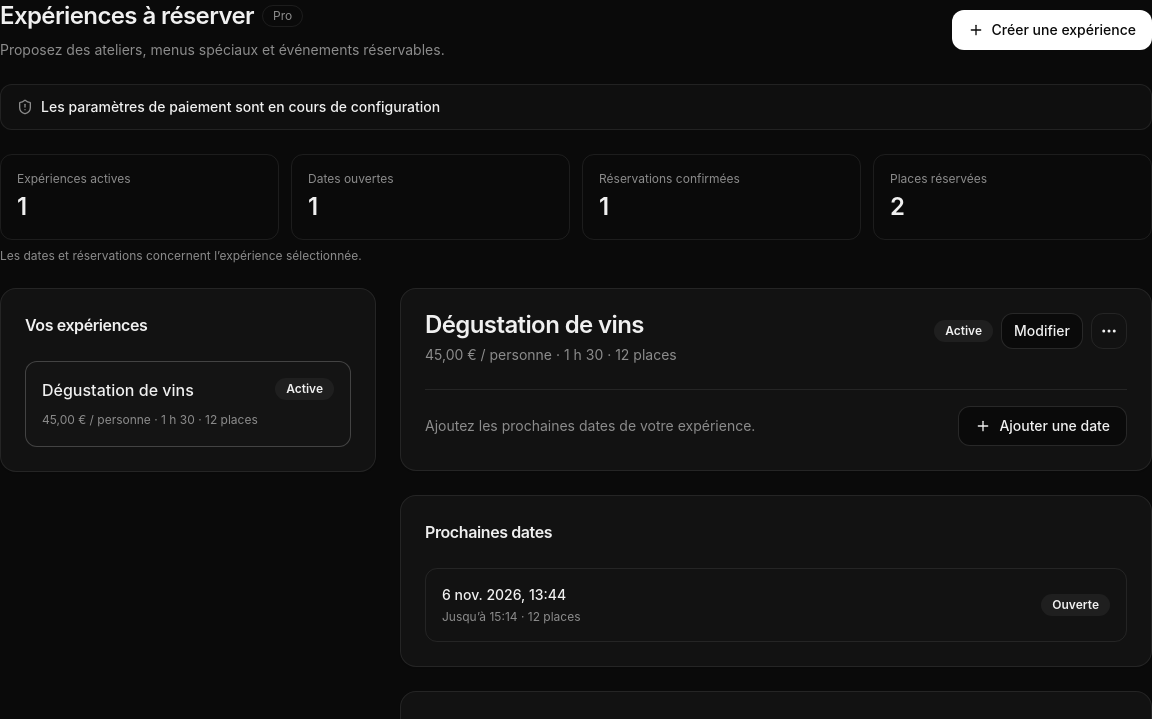
Test: ExperiencesPage › modifie une offre sans changer sa clé ni son statut
Click the button "Modifier": point(1042, 331) [1001,313,1083,349]
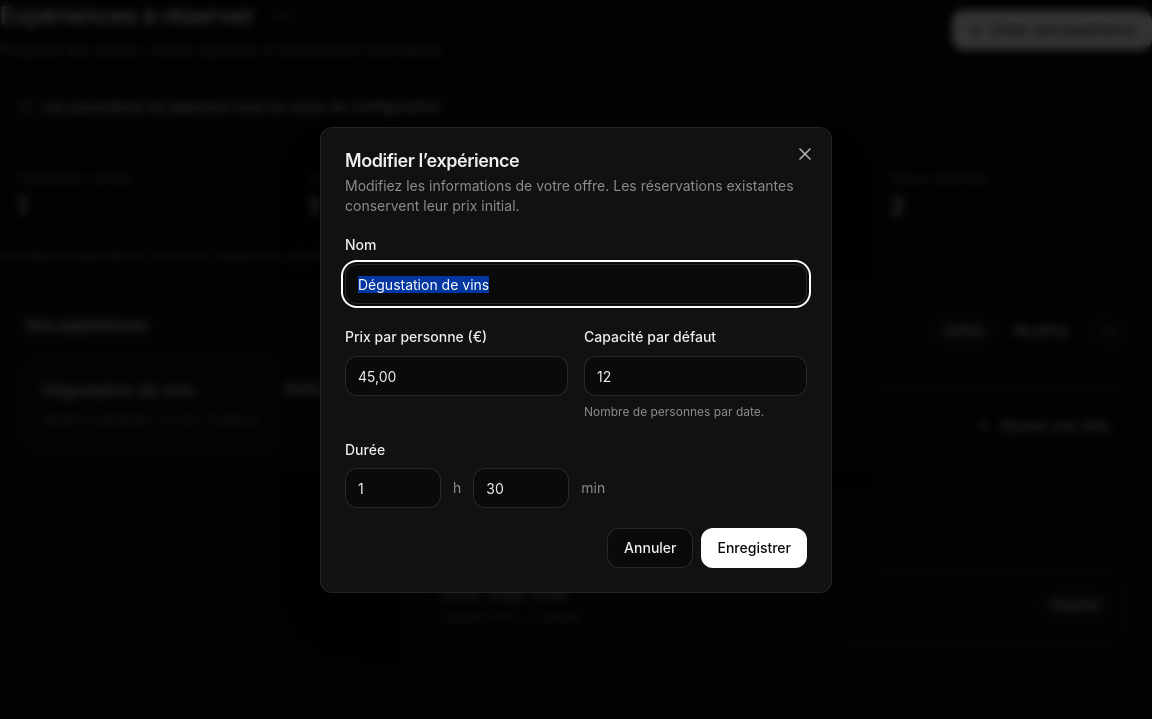
Now the field labelled "Nom" holds "Dégustation de vins", box [345,264,807,304]
Now the field labelled "Prix par personne (€)" holds "45,00"
In the field labelled "Prix par personne (€)": point(456, 376) [345,356,568,396], type "49,50"
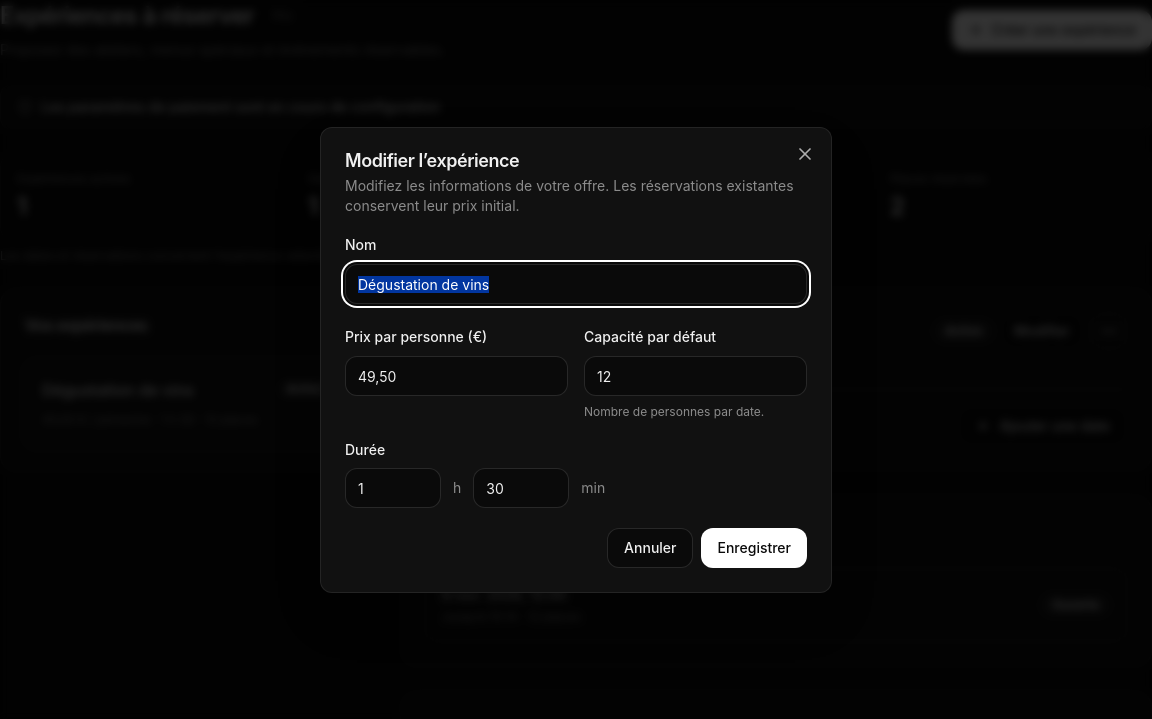
Click the button "Enregistrer": point(754, 548) [702,528,807,568]
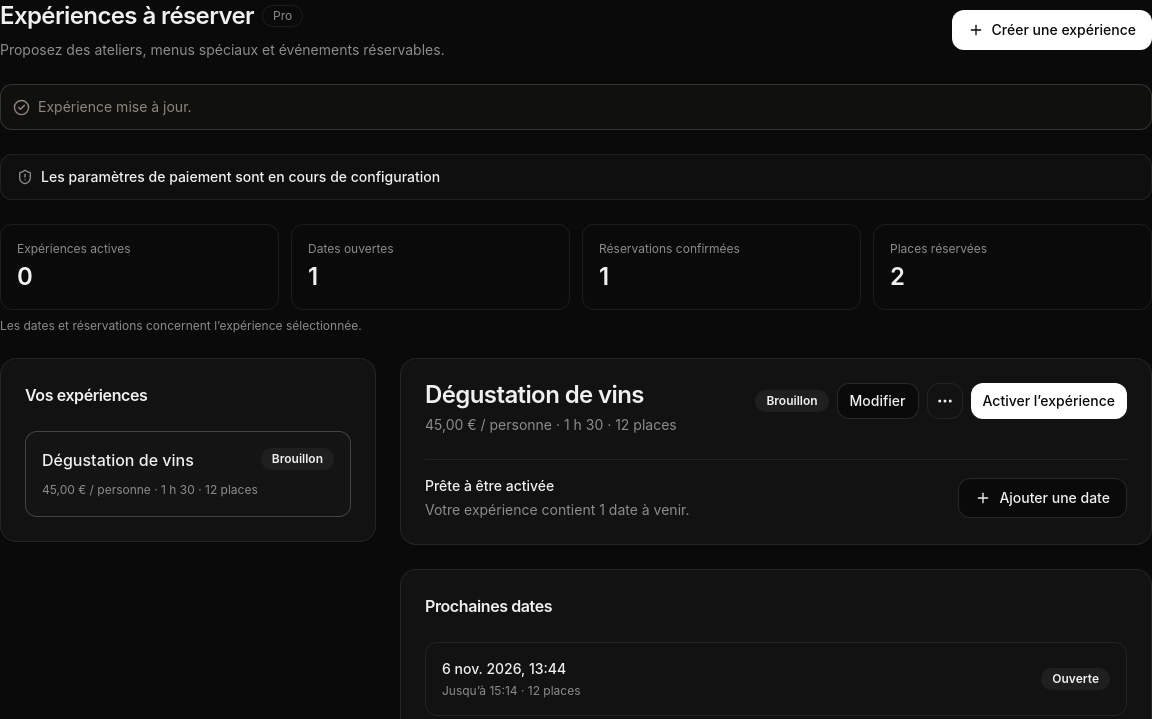
Now the text "Expérience mise à jour." is shown, box [0,84,1151,130]
